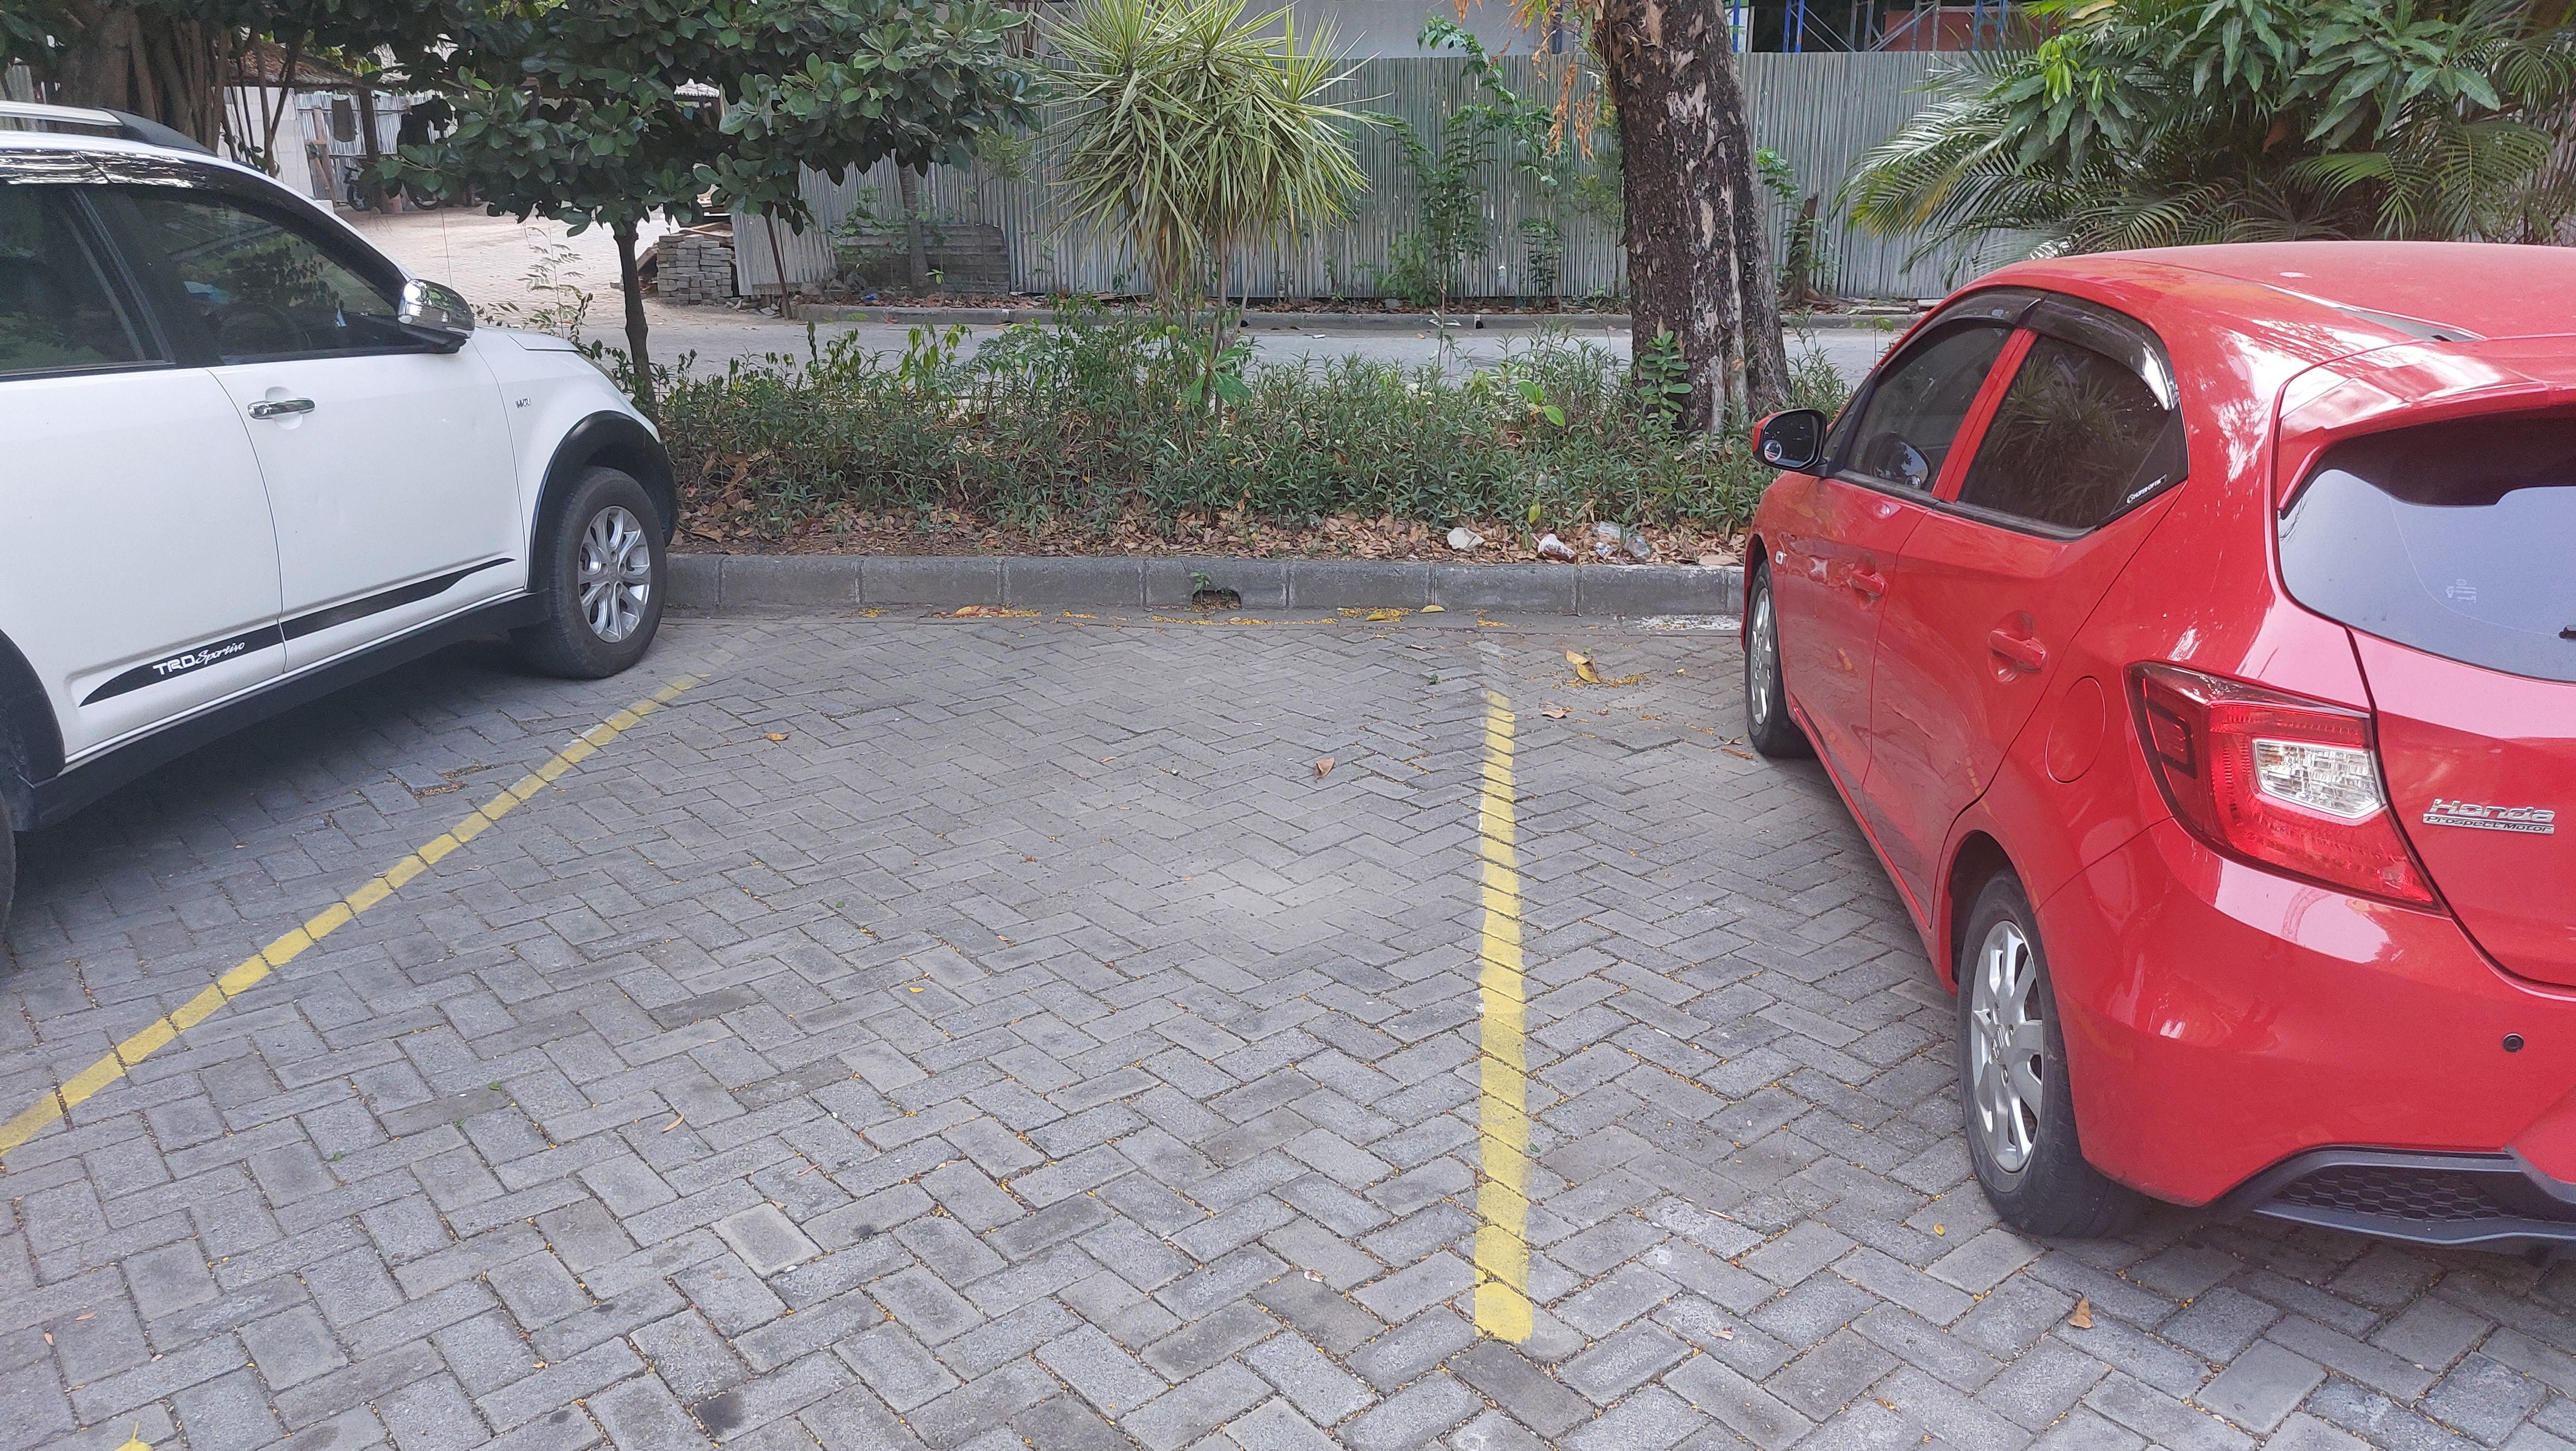occupied: (1487, 239, 2575, 1335), (0, 129, 772, 1144)
